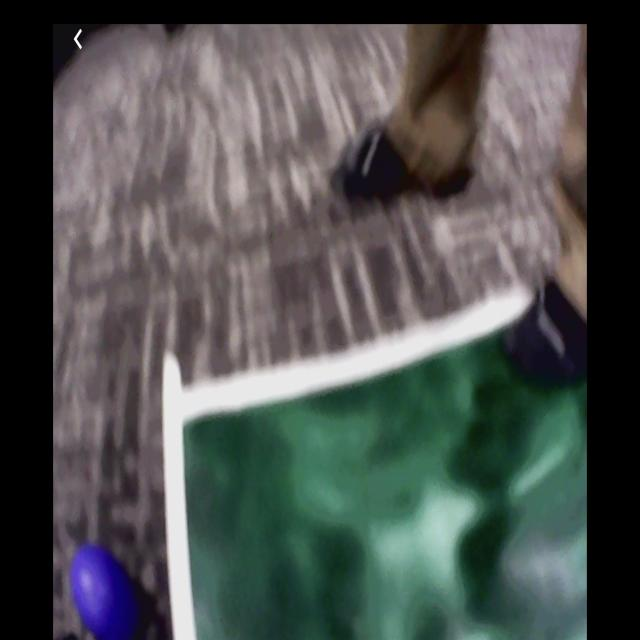ball: (74, 547, 133, 639)
